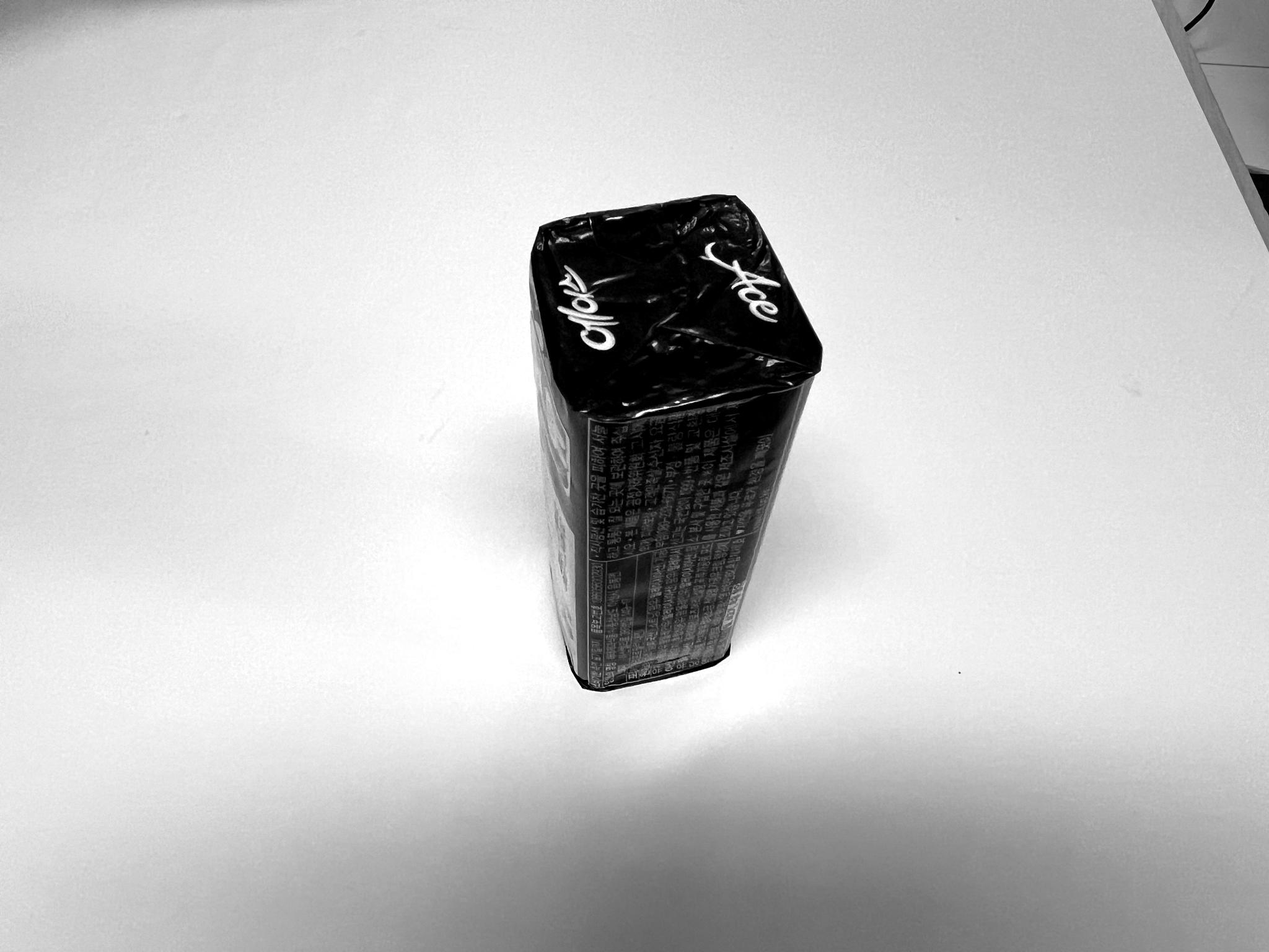cracker_ace: (533, 190, 821, 693)
